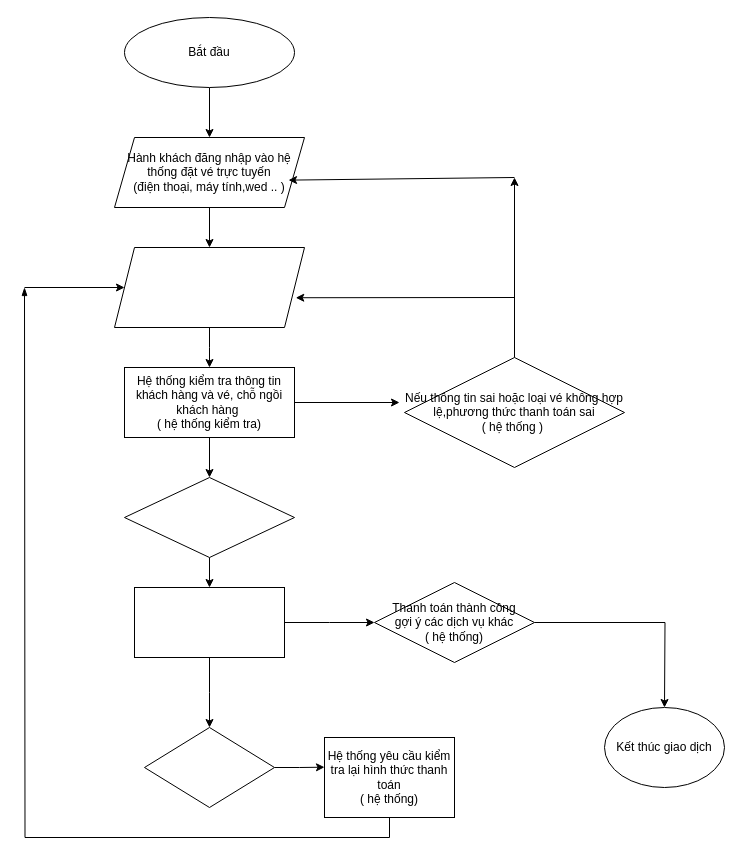
Image size: 742x863. Some labels were removed from this diagram. Here are the shapes that lost their labels. From the top down, the centre of each, then its label:
the point at 209,287: Khách hàng chọn loại vé, số lượng,phương thức thanh toán ( chuột, bàn phím,...)
the point at 209,517: Thông tin về người dùng và loại vé chính xác (hệ thống)
the point at 209,622: Hệ thống yêu cầu hành khách xác nhận đặt vé và thanh toán (hệ thống)
the point at 209,767: Thanh toán không thành công (hệ thống)
